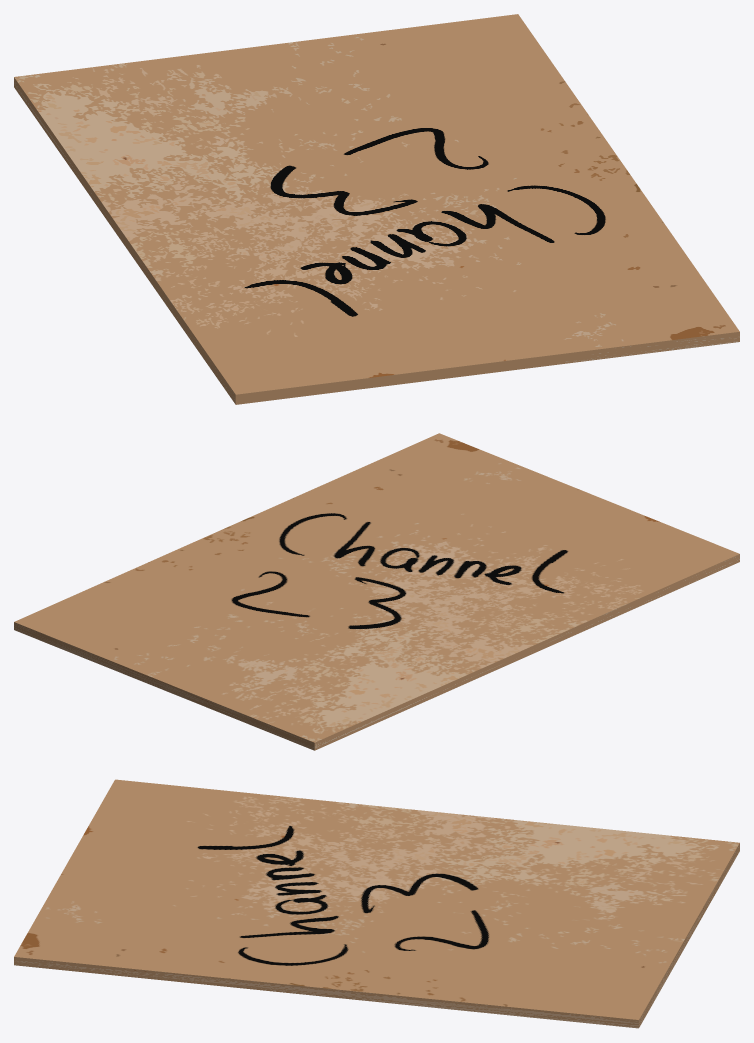
The model's file is note.fbx.
3 renders of one model, top to bottom at view 1: azimuth 30°, elevation 25°; view 2: azimuth 150°, elevation 25°; view 3: azimuth 270°, elevation 25°, orthographic. The views are drawn at different scales.
Parts seen in each view (by area): view 1: Note; view 2: Note; view 3: Note.
Part boxes in pixels (x1,y1,x2,y2): Note: (14,14,739,404); Note: (14,433,739,750); Note: (14,779,739,1028).
Size of the model in its own units: 21.14 by 0.3597 by 26.92.
Materials: 2 (2 with a texture image).
